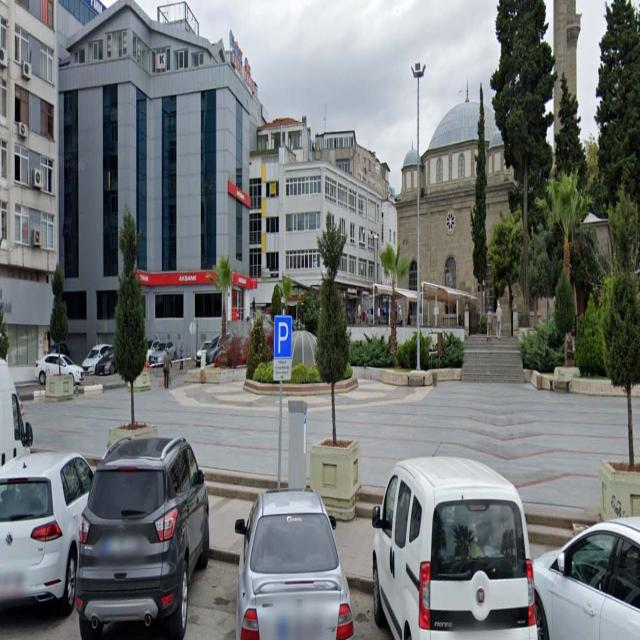park: (274, 316, 292, 358)
